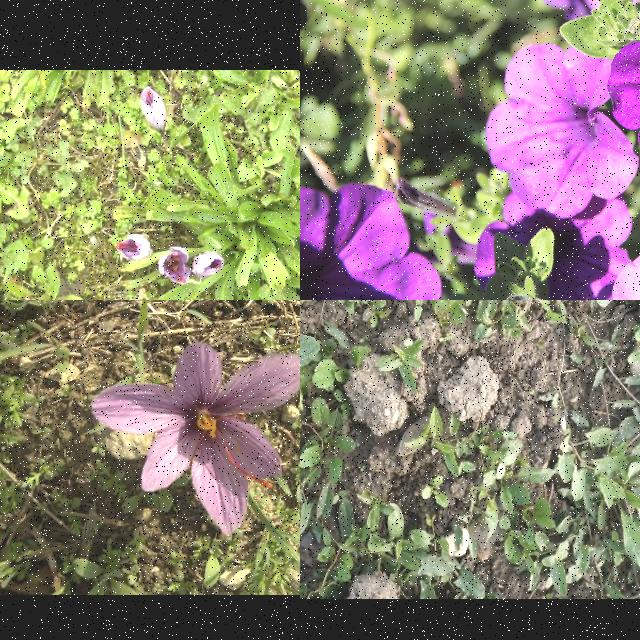flower: (90, 342, 300, 536), (140, 87, 168, 137), (159, 248, 191, 284), (116, 234, 152, 262), (193, 252, 225, 278)
